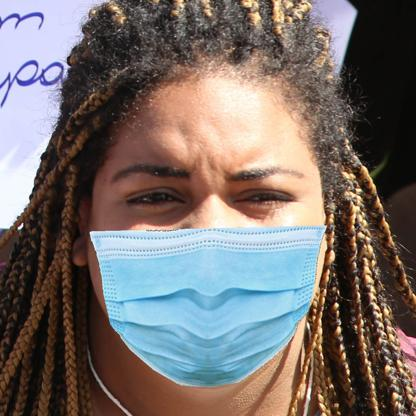mask: (87, 225, 325, 391)
